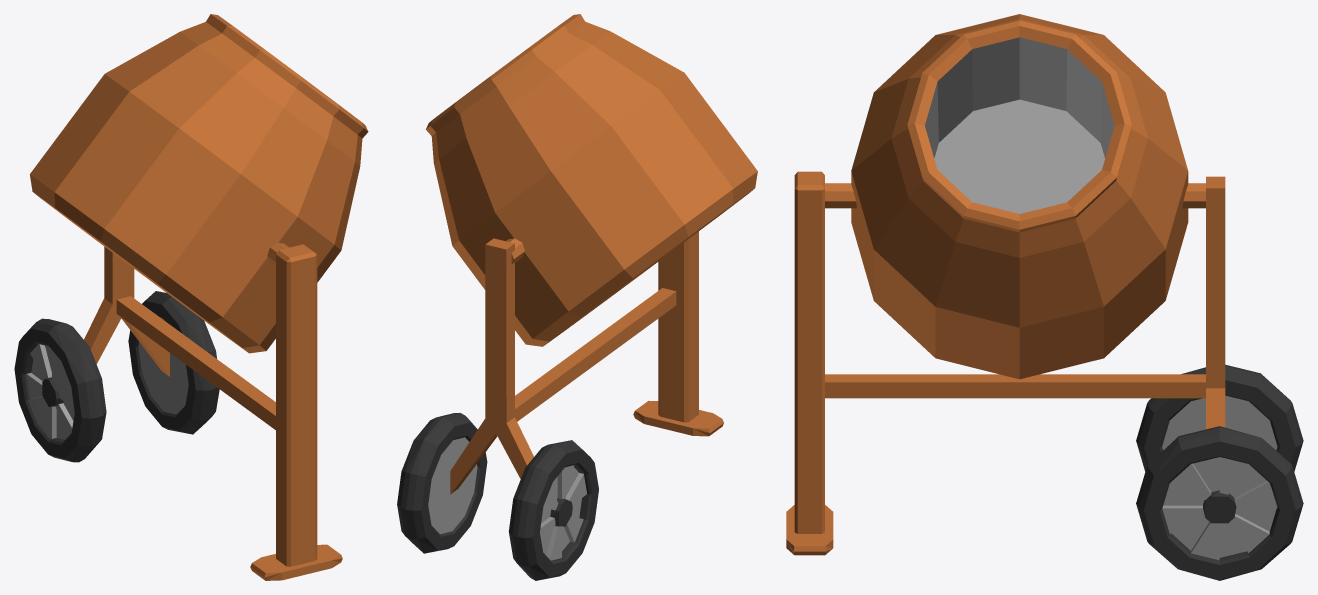
File: mixer.glb
3 renders of one model, left to right at view 1: azimuth 30°, elevation 25°; view 2: azimuth 150°, elevation 25°; view 3: azimuth 270°, elevation 25°, orthographic. The views are drawn at different scales.
Visible parts, largest first — view 1: Cement Mixer; view 2: Cement Mixer; view 3: Cement Mixer.
Boxes of the visible parts, left/top/right/bottom form: Cement Mixer: left=14, top=14, right=368, bottom=580; Cement Mixer: left=397, top=14, right=757, bottom=580; Cement Mixer: left=786, top=14, right=1303, bottom=580.
Bounding box in the file's own units: 0.2248 × 0.3451 × 0.3.
